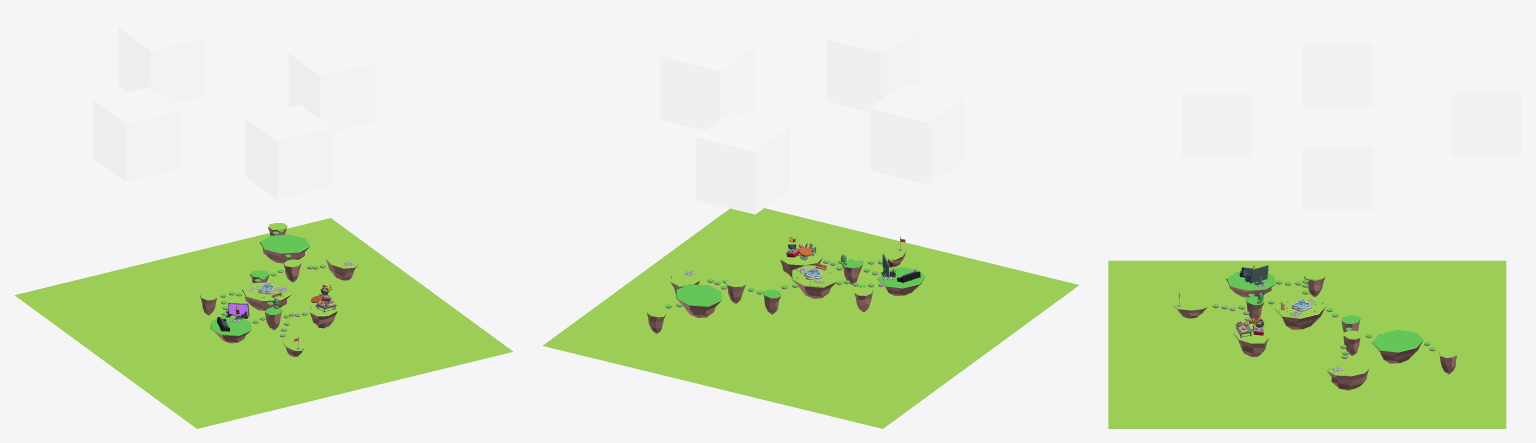
File: our-.glb
The picture shows the model from 3 angles, left to right: view 1: azimuth 30°, elevation 25°; view 2: azimuth 150°, elevation 25°; view 3: azimuth 270°, elevation 25°; orthographic projection. The views are drawn at different scales.
Visible parts, largest first — view 1: Plane, Cube, Cube.001, Cube.002, Cube.003, Cylinder.007, Cylinder.001, Cylinder.002, Cylinder.009, Cylinder.004; view 2: Plane, Cube.002, Cube.001, Cube.003, Cube, Cylinder.007, Cylinder.001, Cylinder.002; view 3: Plane, Cube, Cube.003, Cube.001, Cube.002, Cylinder.007, Cylinder.001, Cylinder.009, Cylinder.002, Cylinder.004, Cylinder.005.
Boxes of the visible parts, box(x1,y1,x2,y2) form: Plane: box(14, 218, 513, 428); Cube: box(244, 104, 332, 199); Cube.001: box(93, 87, 181, 181); Cube.002: box(118, 14, 206, 103); Cube.003: box(288, 39, 376, 131); Cylinder.007: box(260, 234, 310, 263); Cylinder.001: box(242, 282, 291, 310); Cylinder.002: box(210, 316, 251, 343); Cylinder.009: box(325, 253, 358, 280); Cylinder.004: box(309, 301, 338, 328); Plane: box(542, 208, 1078, 428); Cube.002: box(695, 112, 789, 214); Cube.001: box(870, 83, 964, 184); Cube.003: box(660, 32, 754, 130); Cube: box(827, 14, 921, 112); Cylinder.007: box(676, 284, 722, 317); Cylinder.001: box(791, 265, 837, 298); Cylinder.002: box(877, 267, 925, 295); Plane: box(1108, 260, 1506, 428); Cube: box(1181, 64, 1251, 157); Cube.003: box(1302, 117, 1372, 210); Cube.001: box(1302, 14, 1372, 106); Cube.002: box(1452, 63, 1521, 156); Cylinder.007: box(1372, 330, 1423, 363); Cylinder.001: box(1274, 296, 1326, 329); Cylinder.009: box(1327, 363, 1369, 390); Cylinder.002: box(1226, 272, 1276, 297); Cylinder.004: box(1233, 327, 1268, 356); Cylinder.005: box(1173, 302, 1207, 318).
Size of the model in its own units: 177 by 144 by 184.
Materials: 58 (16 with a texture image).
